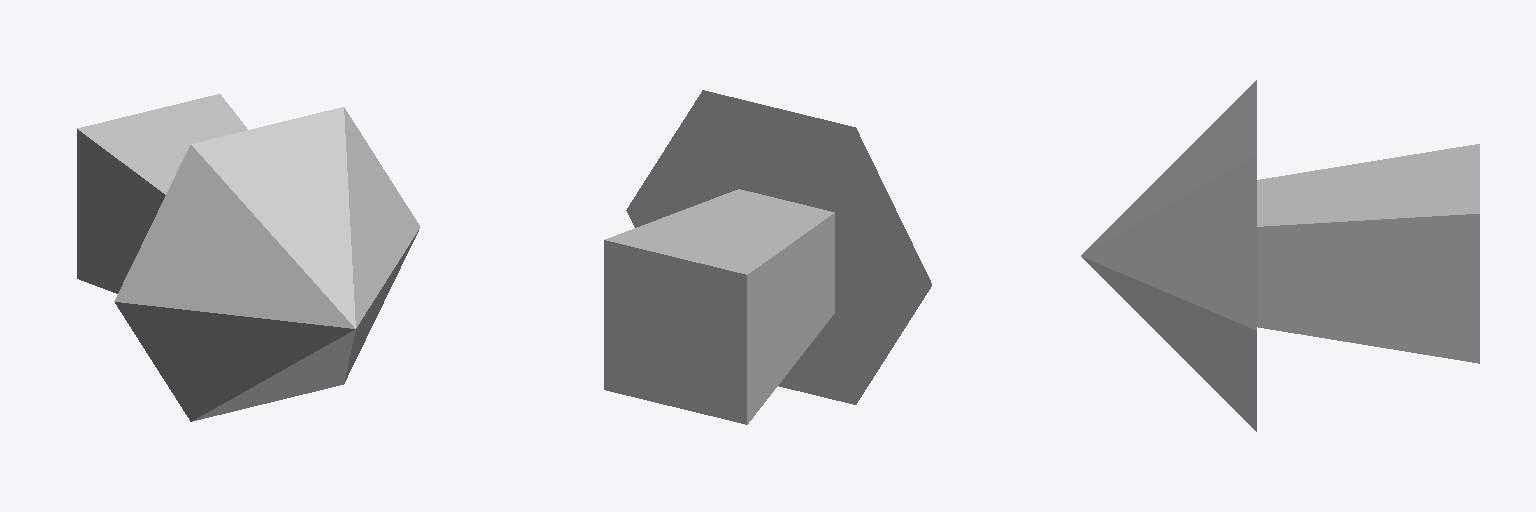
The model's file is mushroom.obj.
3 renders of one model, left to right at view 1: azimuth 30°, elevation 25°; view 2: azimuth 150°, elevation 25°; view 3: azimuth 270°, elevation 25°, orthographic.
Visible parts, largest first — view 1: Mesh1_Mushroom_Red_Model; view 2: Mesh1_Mushroom_Red_Model; view 3: Mesh1_Mushroom_Red_Model.
Boxes of the visible parts, x1=… form: Mesh1_Mushroom_Red_Model: x1=77, y1=94, x2=419, y2=421; Mesh1_Mushroom_Red_Model: x1=604, y1=90, x2=931, y2=424; Mesh1_Mushroom_Red_Model: x1=1081, y1=80, x2=1479, y2=431.
Bounding box in the file's own units: 2.8 × 2.42 × 3.16.